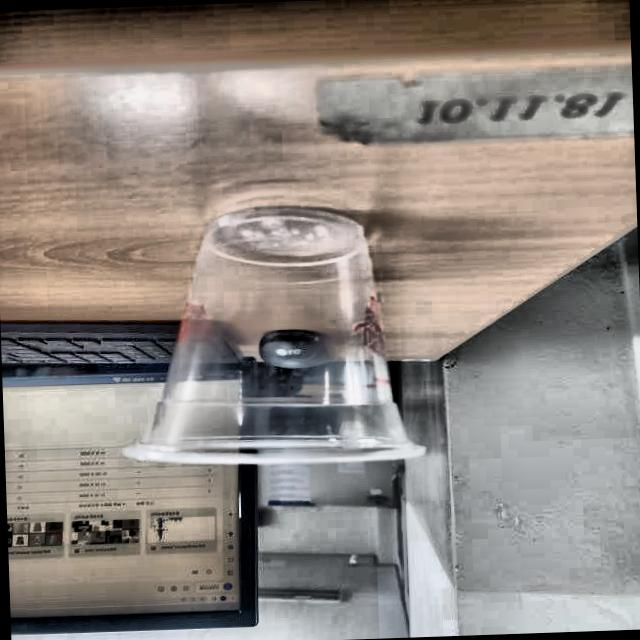plastic cup: (113, 205, 432, 472)
